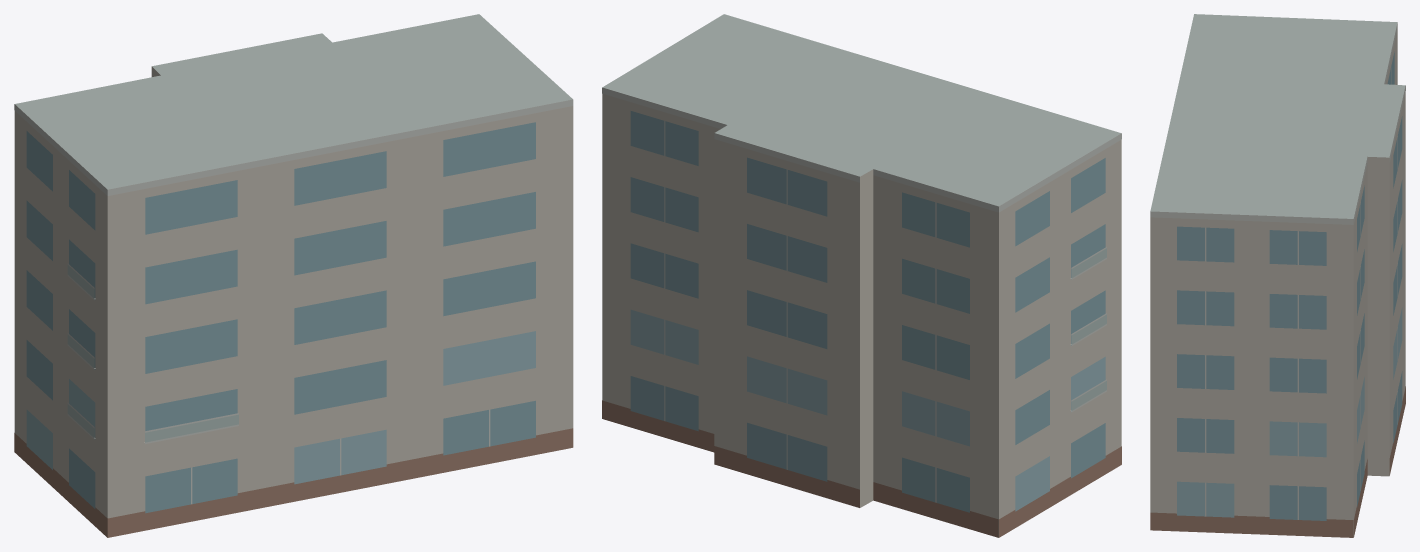
The model's file is survey-upis-32973561.glb.
The picture shows the model from 3 angles, left to right: view 1: azimuth 30°, elevation 25°; view 2: azimuth 150°, elevation 25°; view 3: azimuth 270°, elevation 25°; orthographic projection. The views are drawn at different scales.
Parts seen in each view (by area): view 1: survey-upis-32973561.tmp; view 2: survey-upis-32973561.tmp; view 3: survey-upis-32973561.tmp.
Boxes of the visible parts, x1,y1,x2,y2 form: survey-upis-32973561.tmp: [14, 14, 573, 537]; survey-upis-32973561.tmp: [602, 14, 1121, 537]; survey-upis-32973561.tmp: [1150, 14, 1405, 537].
Size of the model in its own units: 18.21 by 13.2 by 9.59.
